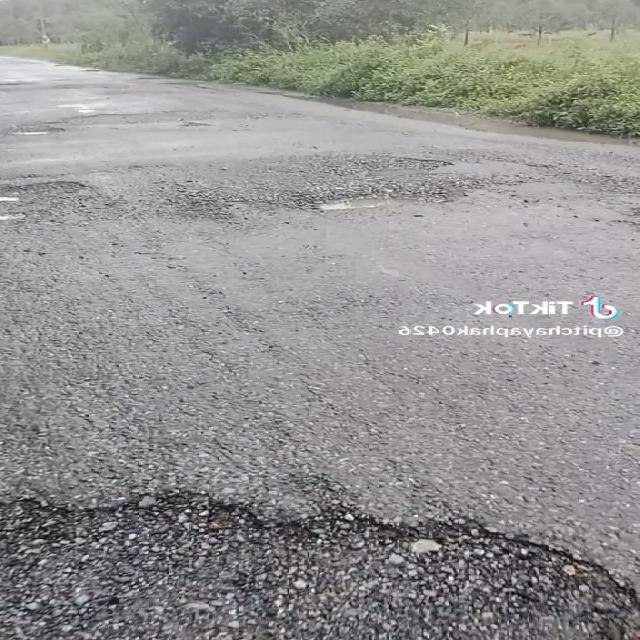Poth-hole: (0, 434, 639, 640)
